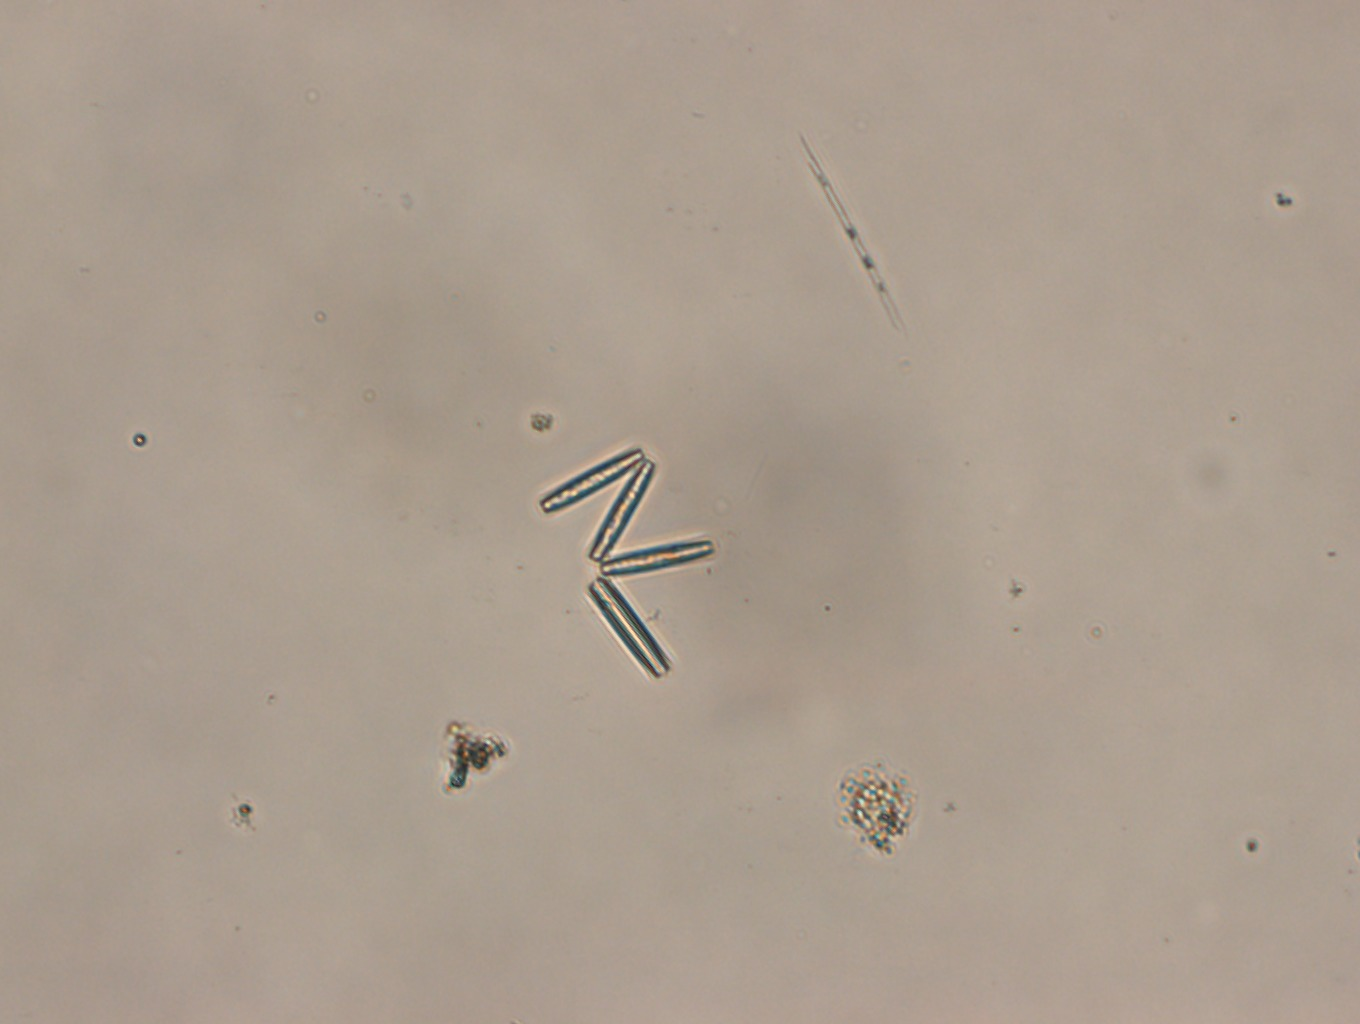thalassionema nitzschioides: (539, 444, 719, 678)
